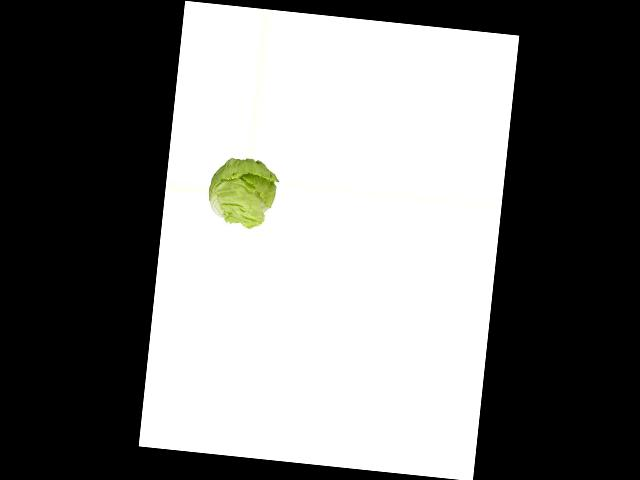lettuce: (203, 155, 279, 228)
